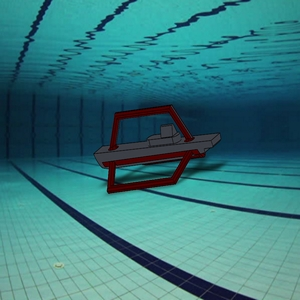submarine: (88, 100, 226, 202)
